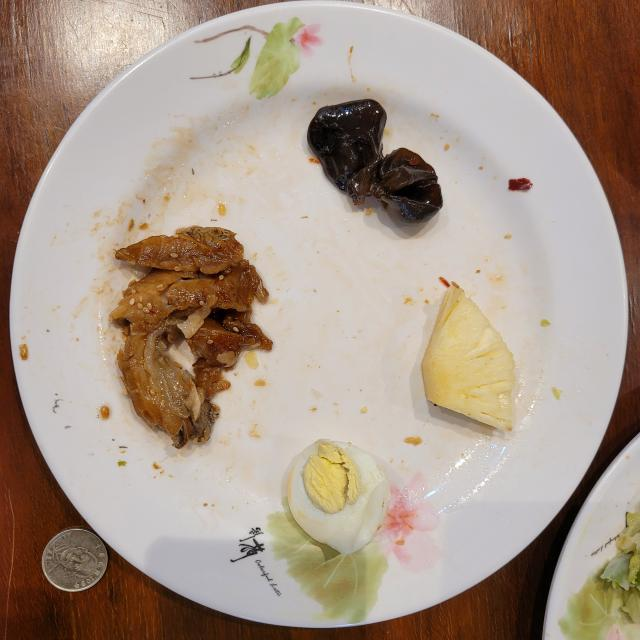Kabayaki sea bream fillet: (110, 226, 271, 448)
coin: (41, 528, 108, 591)
pineapple: (421, 282, 515, 431)
